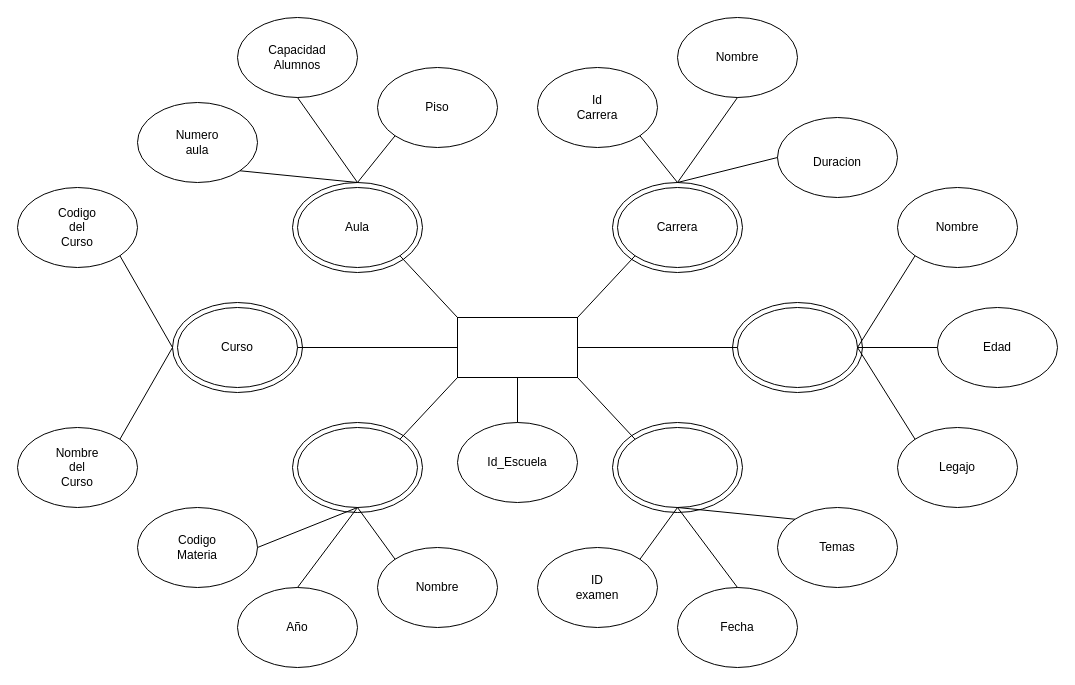
This 1075x685 diagram has some shape labels left out. Here are the shapes that lost their labels. From the top down, the centre of each, then its label:
At (x=517, y=347): "Escuela".
At (x=797, y=347): "Alumno".
At (x=357, y=467): "Materia".
At (x=677, y=467): "Examen".
